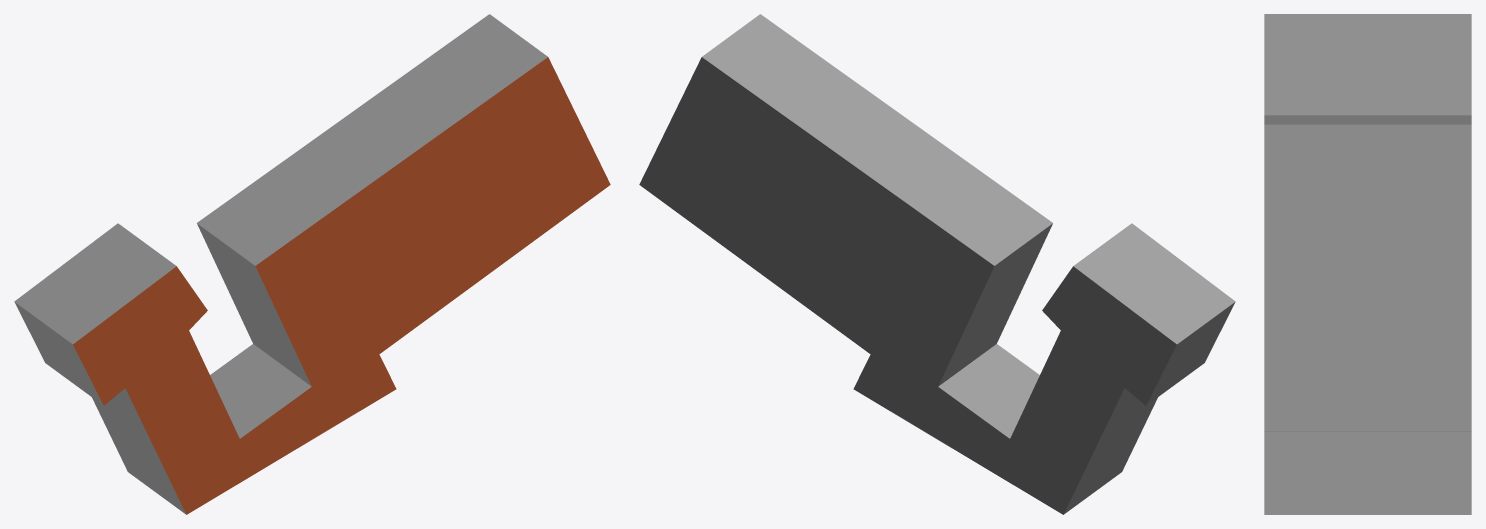
Rendered from construction_1129_assumed_A_Casa_h6m.obj.
3 views of the same model, side by side, from view 1: azimuth 30°, elevation 25°; view 2: azimuth 150°, elevation 25°; view 3: azimuth 270°, elevation 25° (orthographic). The views are drawn at different scales.
Visible parts, largest first — view 1: construction_1129_assumed_A_Casa; view 2: construction_1129_assumed_A_Casa; view 3: construction_1129_assumed_A_Casa.
Boxes of the visible parts, x1=… form: construction_1129_assumed_A_Casa: x1=14, y1=14, x2=610, y2=514; construction_1129_assumed_A_Casa: x1=639, y1=14, x2=1235, y2=514; construction_1129_assumed_A_Casa: x1=1264, y1=14, x2=1471, y2=514.
Size of the model in its own units: 31.74 by 20.85 by 6.
